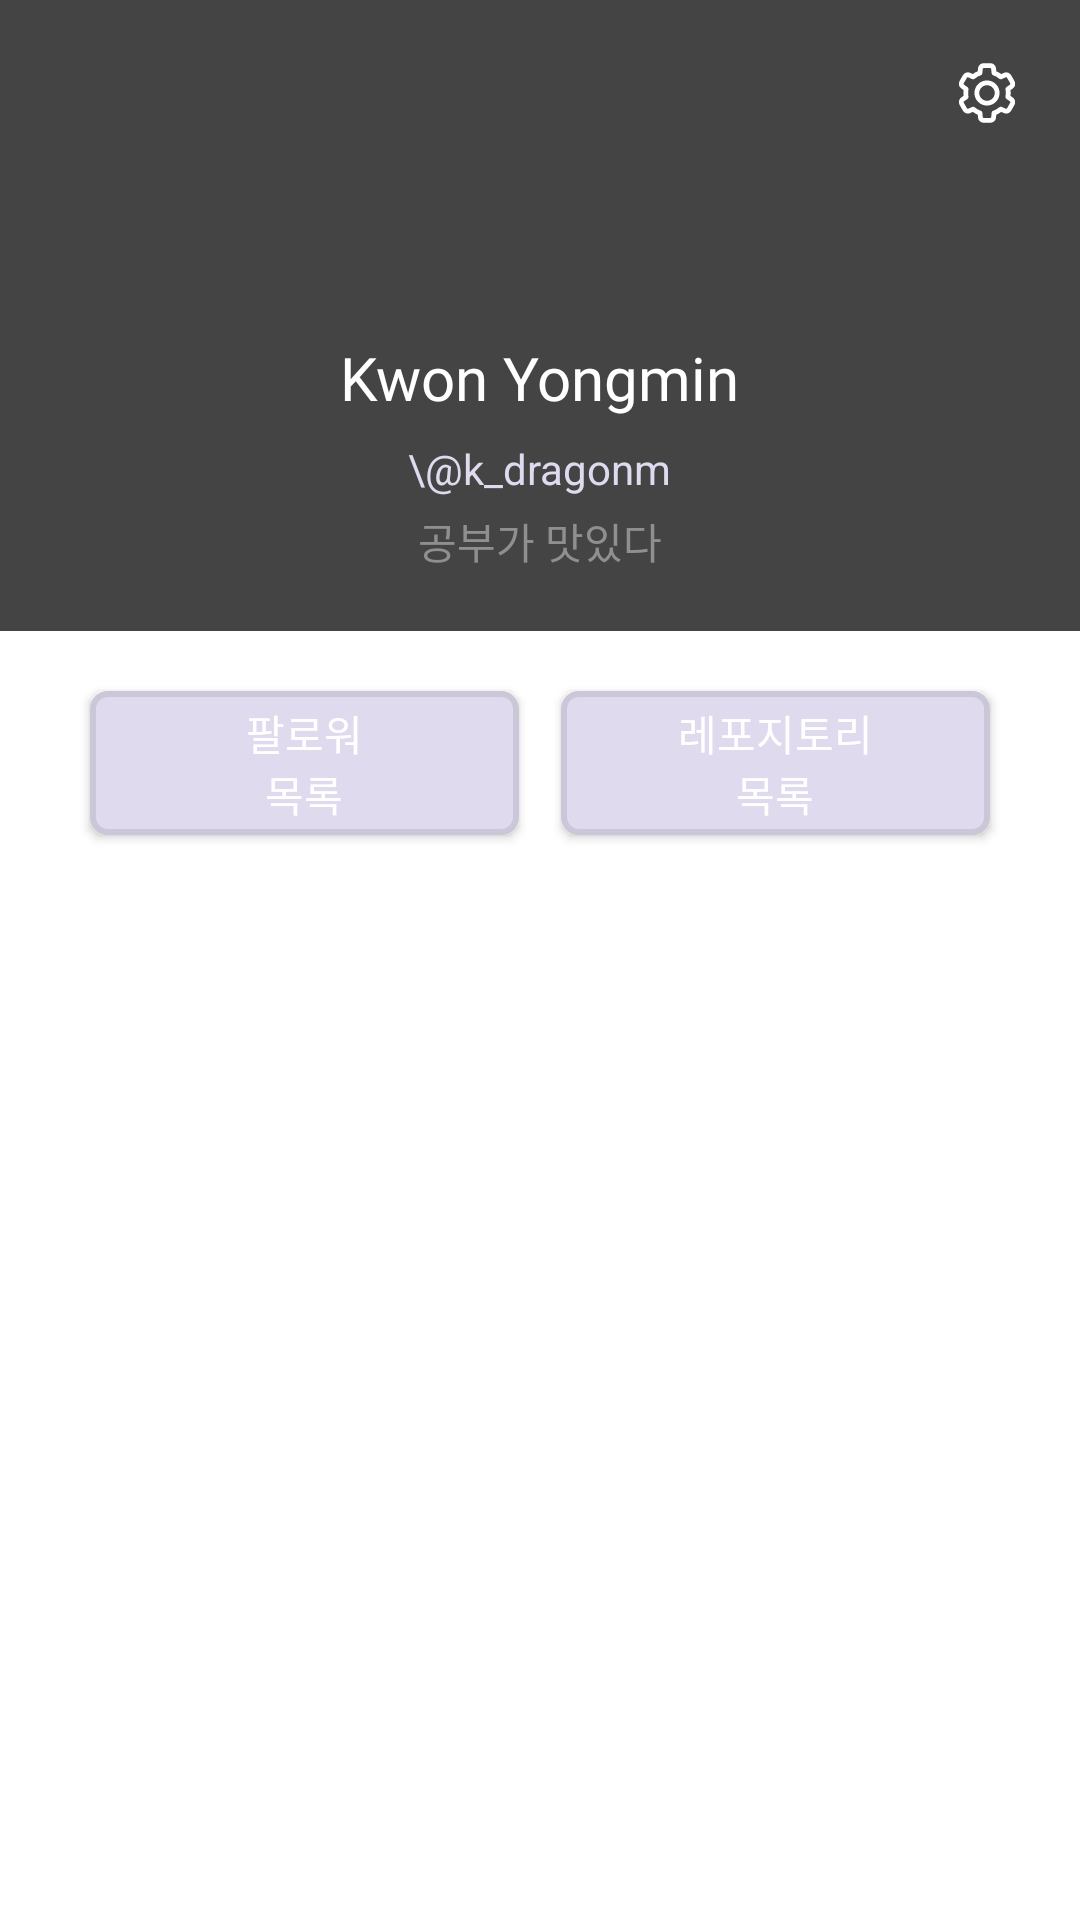

Screen size 1080×1920. Icon name, then its center in pixels as (x=x, y=y):
setting: (x=987, y=93)
